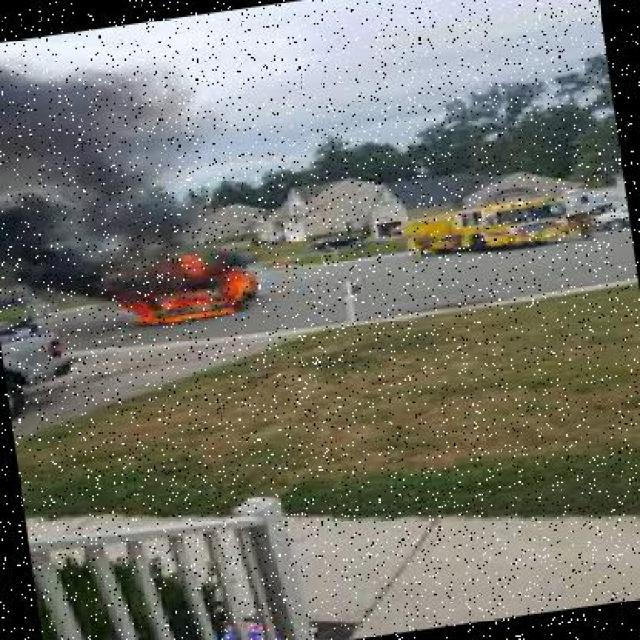fire: (90, 239, 282, 343)
